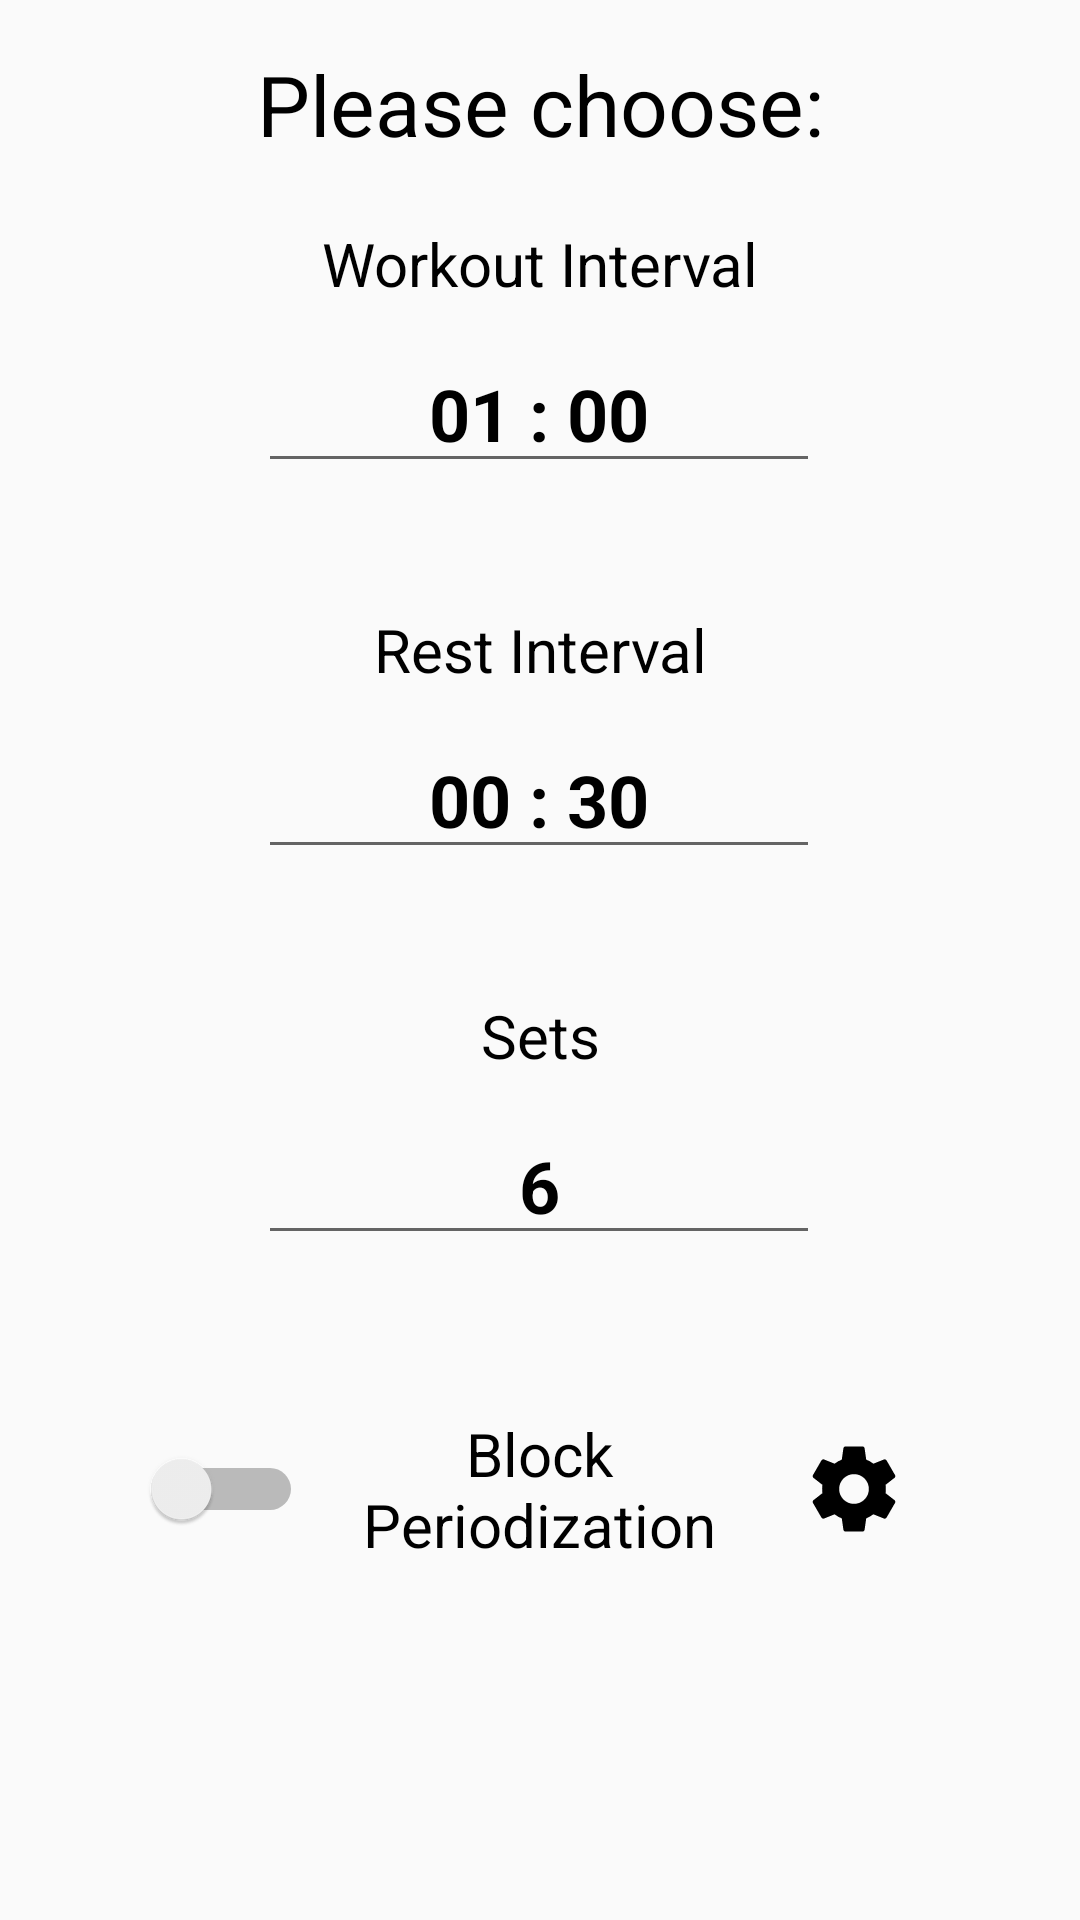

Named icons in this screenshot (1080 x 1920) and their centers, (x,y):
config: (854,1489)
